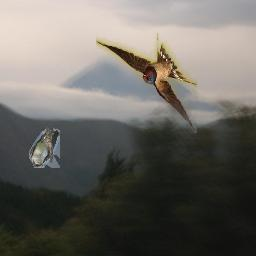Swallow: (97, 33, 198, 133), (30, 128, 61, 169)
